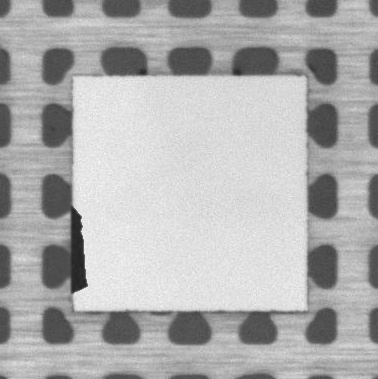DIE_BROKEN: (68, 207, 90, 301)
